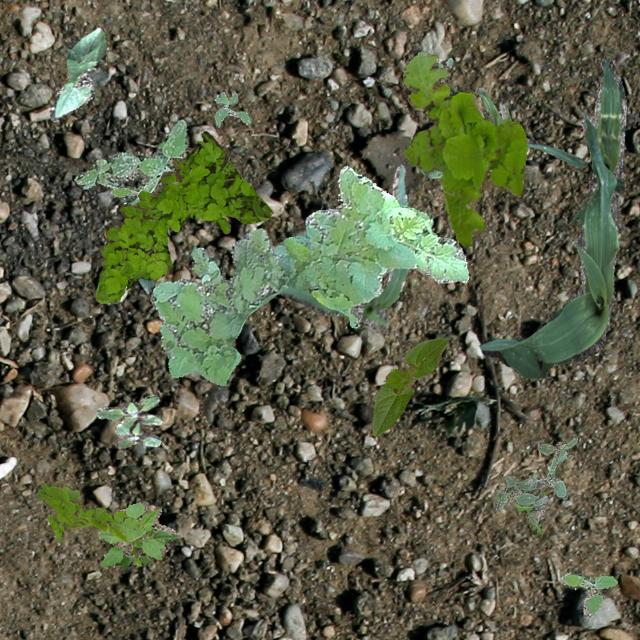crop: (478, 56, 626, 377), (278, 164, 408, 328), (418, 86, 584, 178), (371, 338, 447, 434), (48, 26, 106, 120), (125, 195, 156, 292)
weed: (150, 164, 468, 384), (95, 130, 272, 302), (402, 52, 526, 246), (72, 118, 186, 204), (494, 436, 576, 524), (35, 482, 144, 540), (96, 499, 176, 568), (94, 394, 160, 448), (560, 572, 616, 618), (515, 474, 543, 538), (213, 90, 250, 126), (417, 50, 453, 80), (110, 184, 144, 197)
